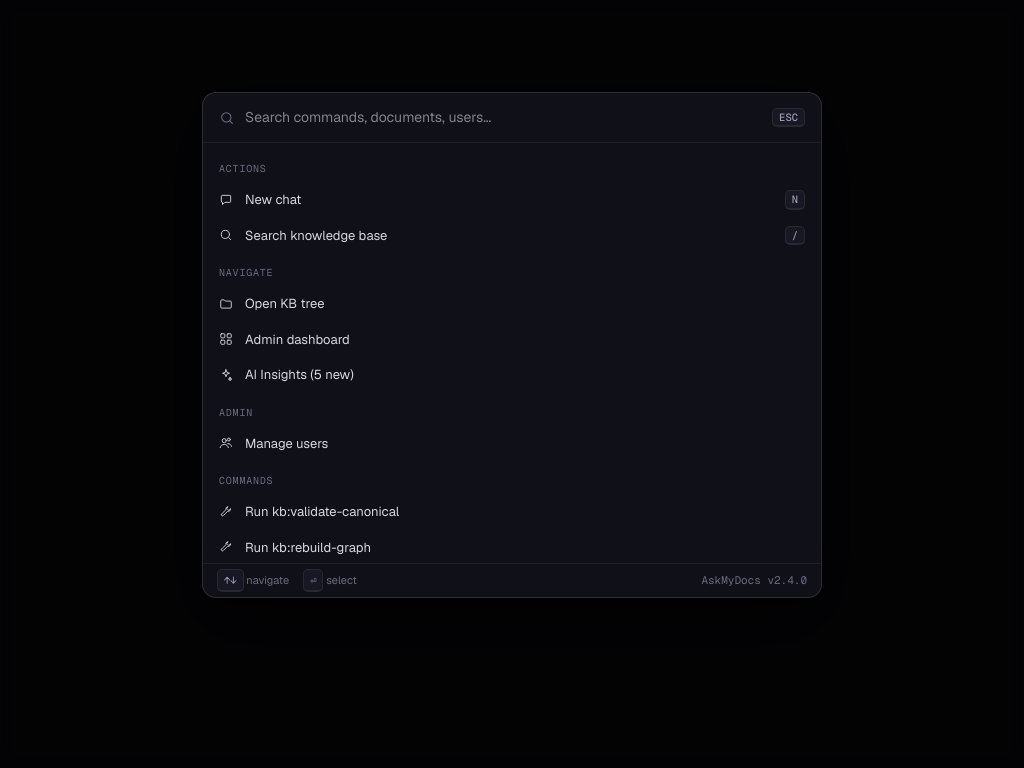
Test: CommandPalette › filters items by query
Type "insights" into the field labelled "Search" at point(504, 118), box x1=245 y1=107 x2=762 y2=128
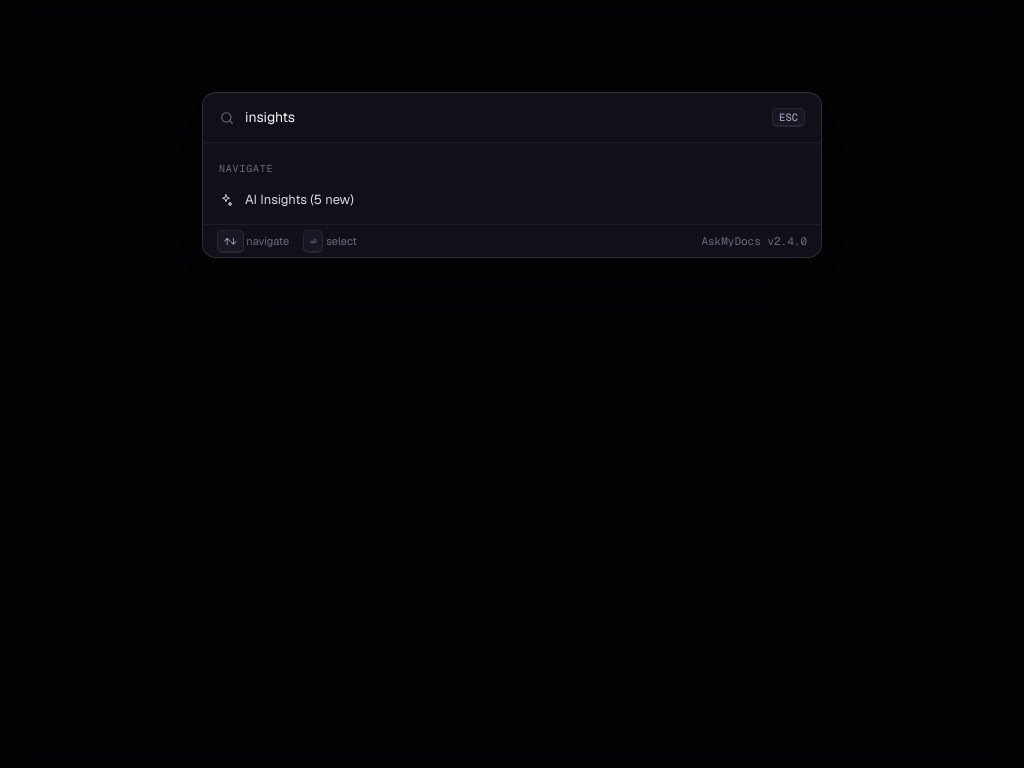
Now the text "AI Insights (5 new)" is shown, box x1=245 y1=191 x2=354 y2=208
Now the button "New chat" is gone
